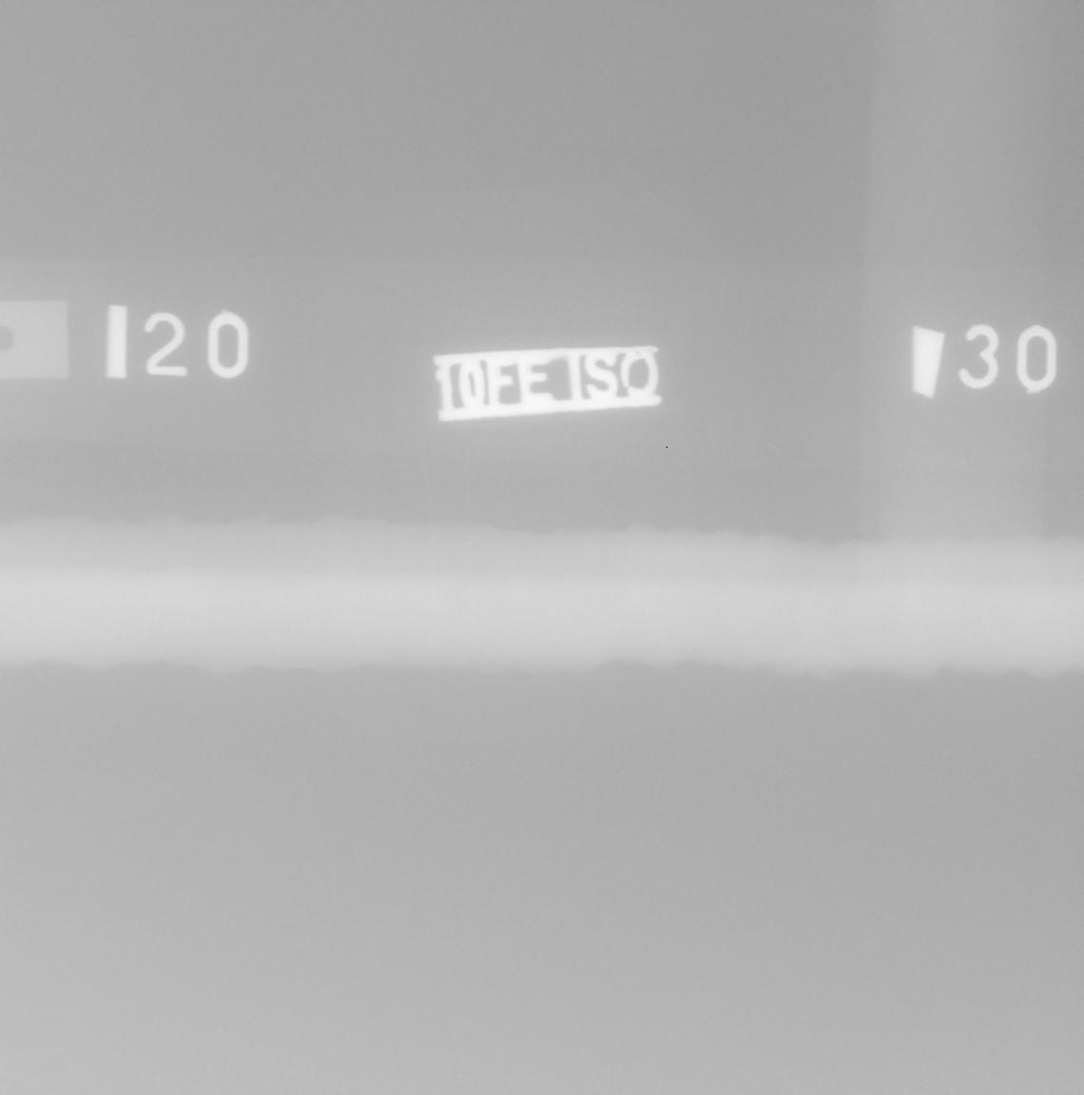Pore/Porosity: (693, 647, 696, 652)
